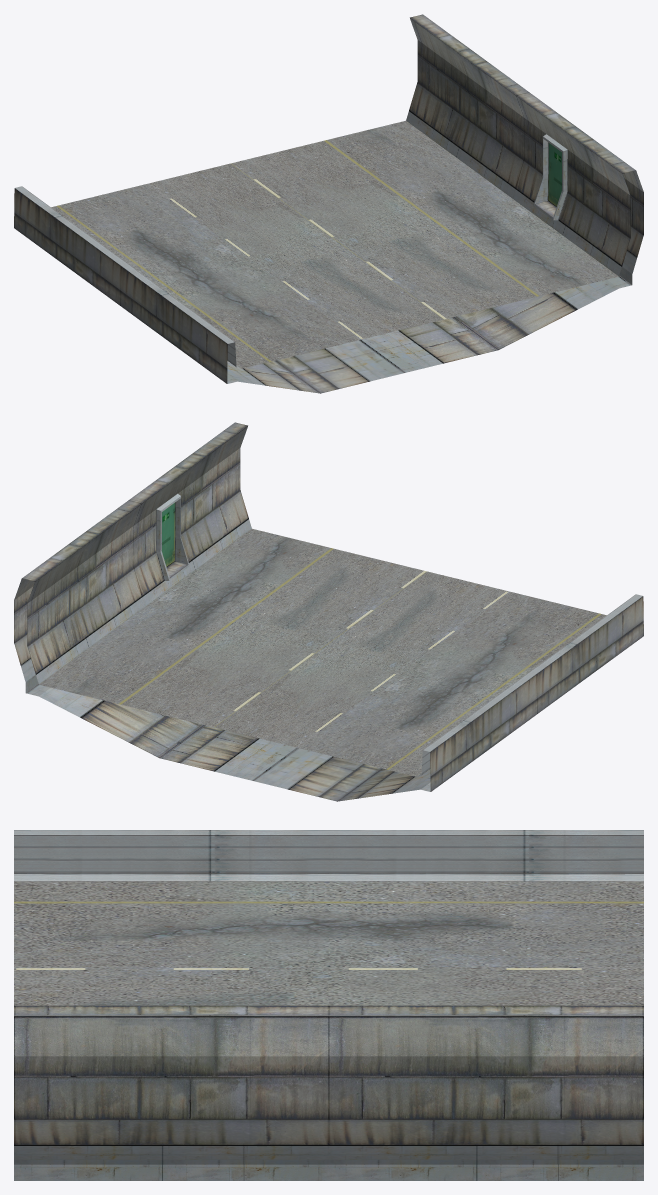
The model's file is Highway_Road_Part_06.fbx.
3 views of the same model, one above another, from view 1: azimuth 30°, elevation 25°; view 2: azimuth 150°, elevation 25°; view 3: azimuth 270°, elevation 25° (orthographic). The views are drawn at different scales.
Parts seen in each view (by area): view 1: Highway_Road_Part_06; view 2: Highway_Road_Part_06; view 3: Highway_Road_Part_06.
Part boxes in pixels (left/top/right/bottom): Highway_Road_Part_06: left=14, top=14, right=643, bottom=393; Highway_Road_Part_06: left=14, top=422, right=643, bottom=801; Highway_Road_Part_06: left=14, top=830, right=643, bottom=1180.
Size of the model in its own units: 1492 by 500 by 1322.
